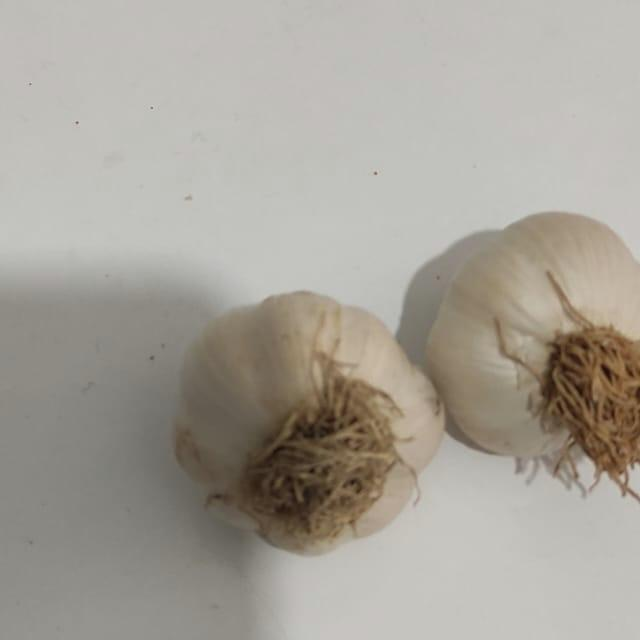garlic: (150, 269, 447, 556), (416, 205, 640, 492)
